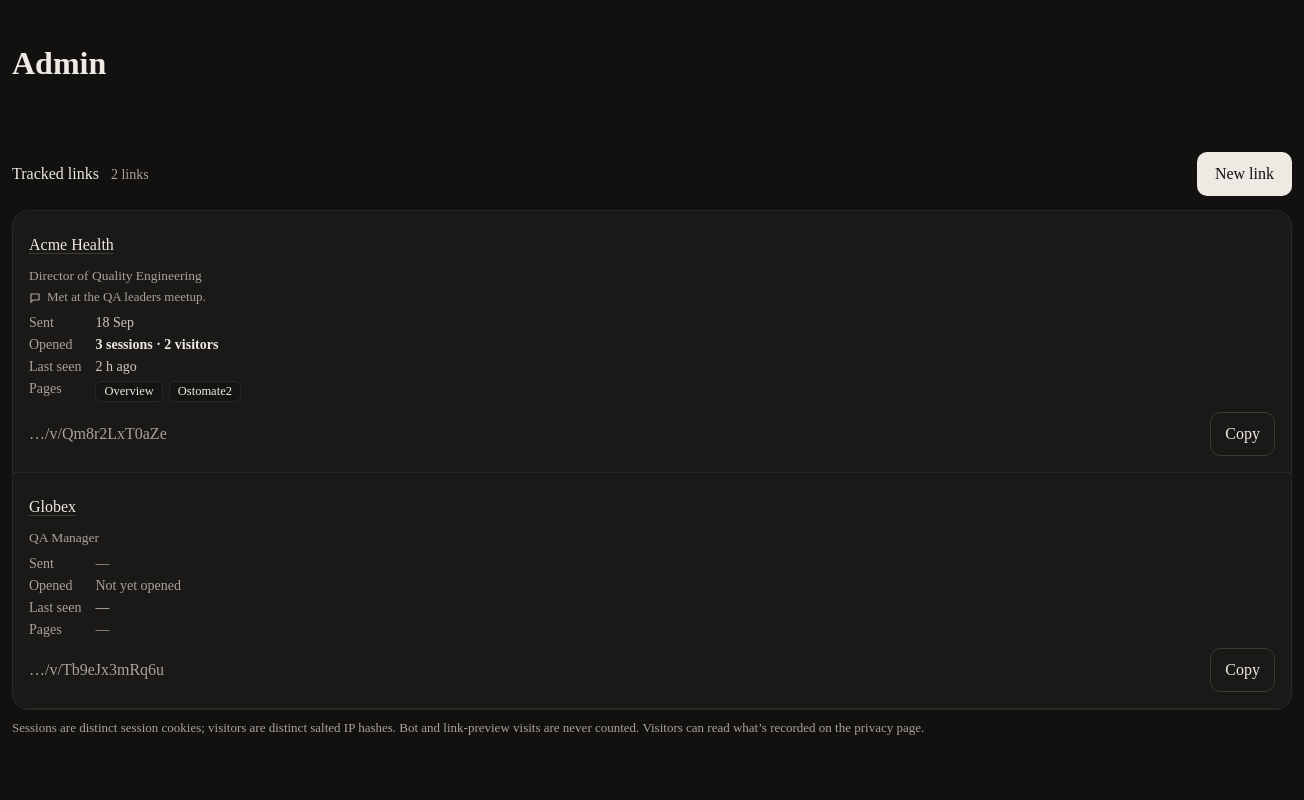
Test: AdminLinks table › offers the address to select when the browser refuses
This screenshot has width=1304, height=800.
Click the button with aria-label "Copy link for Globex".
click(1243, 670)  # box [1210,648,1275,692]
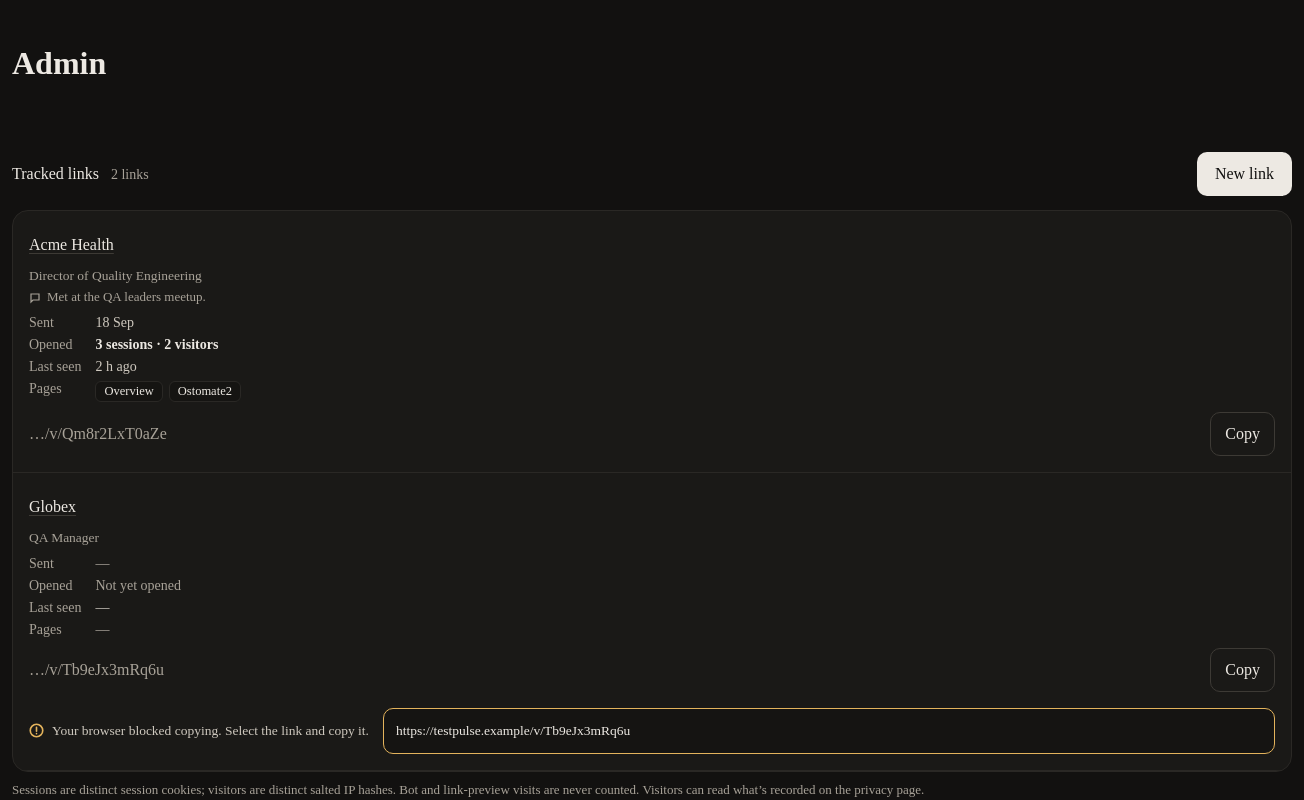
Now the message reads "Your browser blocked copying. Select the link and copy it.", box [52,723,369,738]
